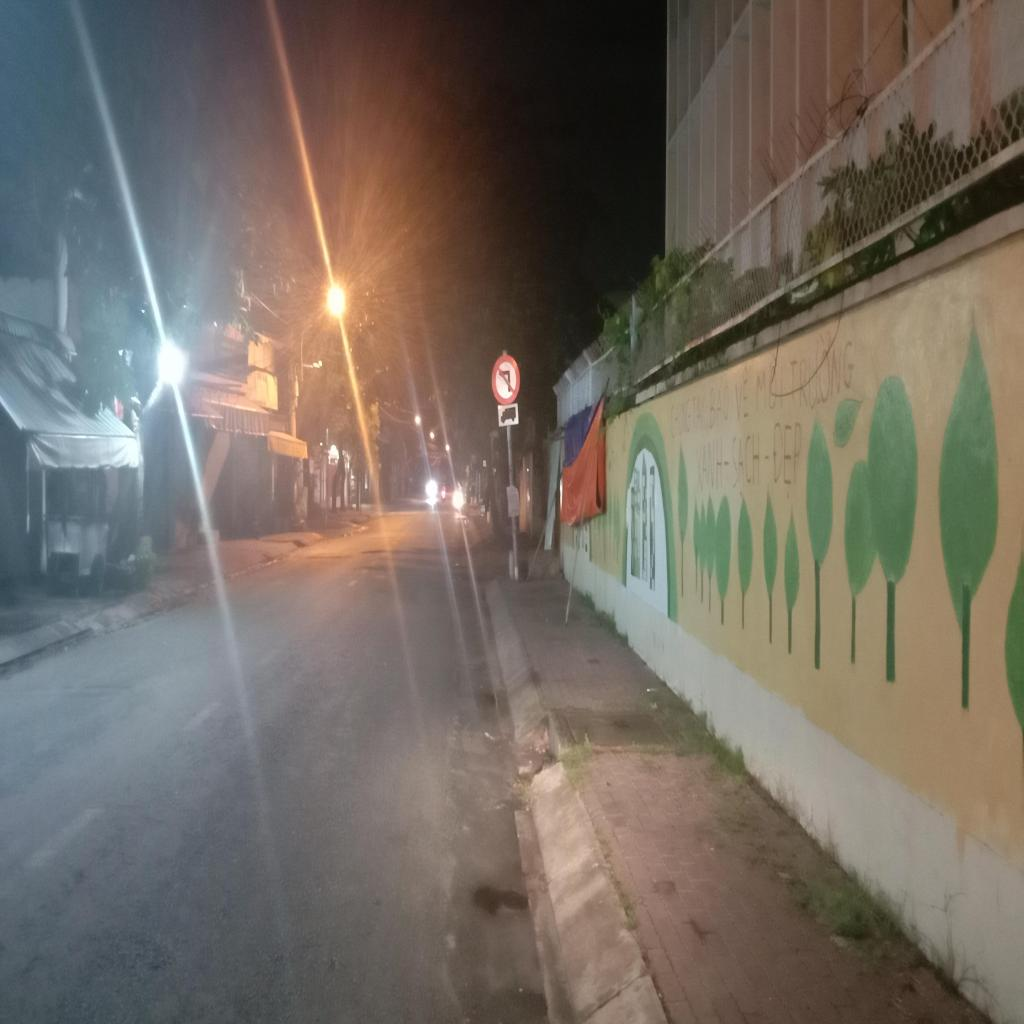cam_re_trai: (491, 353, 521, 405)
khac: (497, 403, 519, 427)
